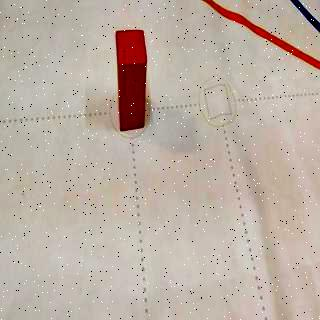redbox: (115, 29, 148, 131)
